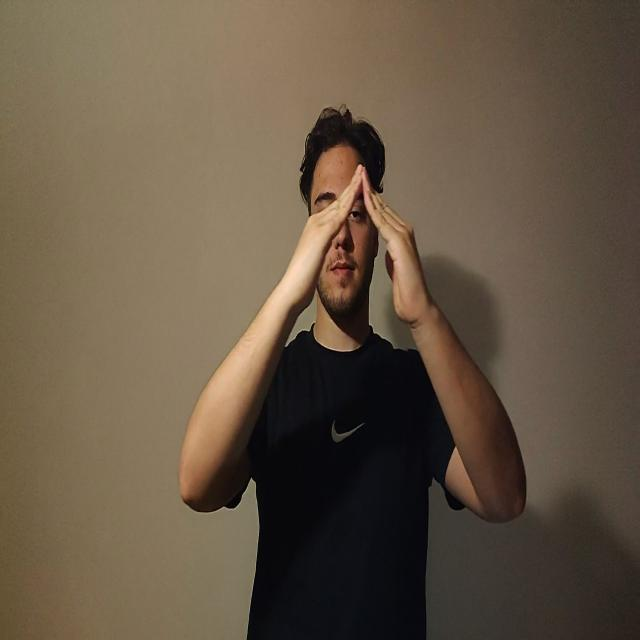house: (285, 168, 430, 329)
